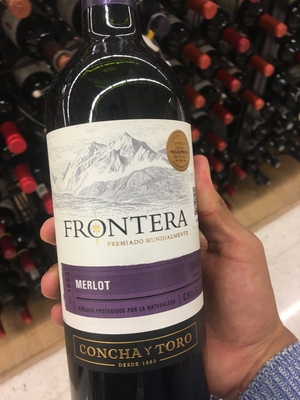frontera merlot: (40, 8, 215, 399)
